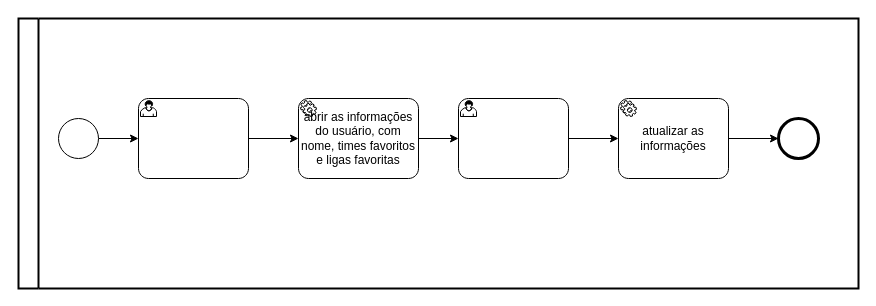
The diagram is 876 pixels wide and 306 high, and some of its shapes have lost their labels. Here are the shapes that lost their labels. From the top down, the centre of each, then its label:
At pixel 193 138: "selecionar ícone do menu".
At pixel 513 138: "apertar em editar na opção desejada".
